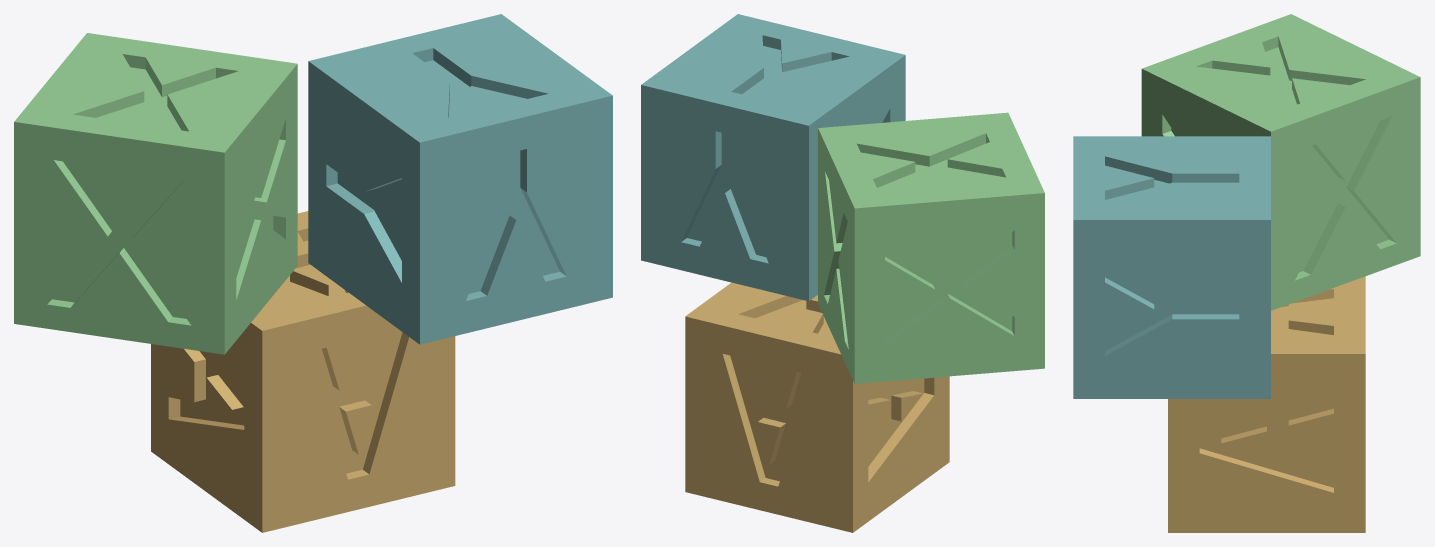
Rendered from 3xyz.gltf.
3 renders of one model, left to right at view 1: azimuth 30°, elevation 25°; view 2: azimuth 150°, elevation 25°; view 3: azimuth 270°, elevation 25°, orthographic. The views are drawn at different scales.
Visible parts, largest first — view 1: ybox, xbox, Abox; view 2: xbox, ybox, Abox; view 3: ybox, xbox, Abox.
Part boxes in pixels (x1,y1,x2,y2): ybox: (308,14,612,344); xbox: (14,33,297,354); Abox: (151,211,455,532); xbox: (818,112,1044,383); ybox: (641,14,905,301); Abox: (685,282,949,532); ybox: (1073,136,1270,398); xbox: (1141,14,1420,310); Abox: (1168,276,1365,532).
Bounding box in the file's own units: 123 × 99.98 × 87.8.
